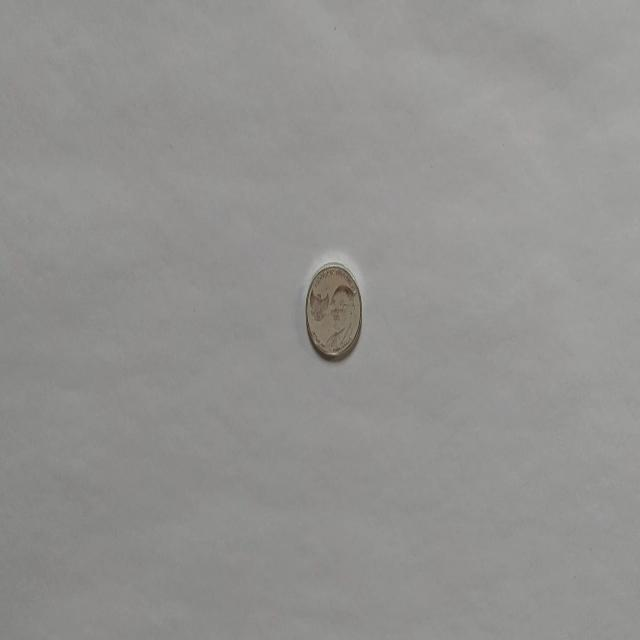lima ratus rupiah: (304, 261, 362, 360)
